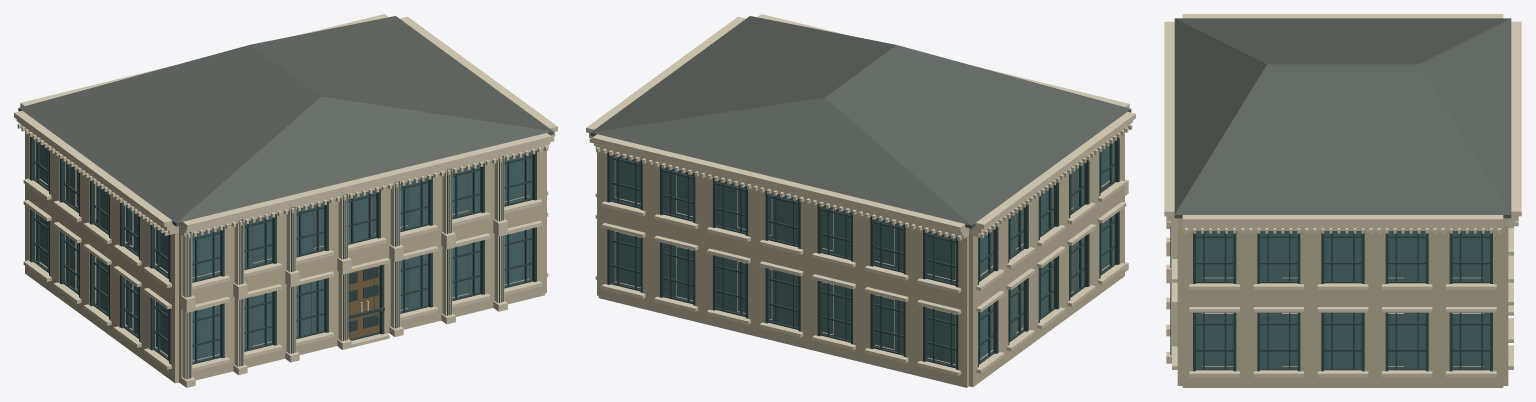
Rendered from neighborhood-bank.glb.
3 views of the same model, side by side, from view 1: azimuth 30°, elevation 25°; view 2: azimuth 150°, elevation 25°; view 3: azimuth 270°, elevation 25° (orthographic). The views are drawn at different scales.
Visible parts, largest first — view 1: Roof main.023, Foundation.042, main/north/0/714/wall.004, main/west/0/9000/wall.006, main/north/0/5000/frame.015, main/north/0/6429/wall.004, main/north/0/2143/wall.004, main/north/0/3571/wall.004, main/north/0/7857/wall.004, main/north/0/9286/wall.004, main/north/0/5000/door.004, main/north/0/6429/glass.004 (+92 smaller); view 2: Roof main.023, main/south/0/714/wall.005, main/south/0/9286/wall.005, main/south/0/2143/wall.005, main/south/0/5000/wall.015, main/south/0/7857/wall.005, main/south/0/6429/wall.005, main/south/0/3571/wall.005, Foundation.042, main/south/1/714/wall.005, main/south/1/2143/wall.005, main/south/1/9286/wall.005 (+77 smaller); view 3: Roof main.023, main/east/0/3000/wall.003, main/east/0/7000/wall.003, main/east/0/1000/wall.006, main/east/0/9000/wall.006, main/east/0/5000/wall.010, main/east/1/3000/wall.006, main/east/1/7000/wall.006, main/east/1/1000/wall.006, main/east/1/9000/wall.006, main/east/1/5000/wall.013, main/east/0/3000/glass.003 (+48 smaller).
Part boxes in pixels (left/top/right/bottom): Roof main.023: left=18, top=16, right=553, bottom=226; Foundation.042: left=39, top=152, right=529, bottom=361; main/north/0/714/wall.004: left=179, top=290, right=233, bottom=383; main/west/0/9000/wall.006: left=145, top=280, right=178, bottom=383; main/north/0/5000/frame.015: left=348, top=264, right=384, bottom=340; main/north/0/6429/wall.004: left=389, top=239, right=441, bottom=329; main/north/0/2143/wall.004: left=233, top=277, right=285, bottom=367; main/north/0/3571/wall.004: left=285, top=264, right=337, bottom=354; main/north/0/7857/wall.004: left=441, top=226, right=493, bottom=316; main/north/0/9286/wall.004: left=493, top=213, right=545, bottom=304; main/north/0/5000/door.004: left=348, top=266, right=379, bottom=338; main/north/0/6429/glass.004: left=400, top=254, right=428, bottom=311; Roof main.023: left=590, top=16, right=1131, bottom=228; main/south/0/714/wall.005: left=914, top=292, right=968, bottom=387; main/south/0/9286/wall.005: left=598, top=215, right=651, bottom=310; main/south/0/2143/wall.005: left=861, top=280, right=914, bottom=374; main/south/0/5000/wall.015: left=756, top=254, right=808, bottom=349; main/south/0/7857/wall.005: left=651, top=228, right=703, bottom=323; main/south/0/6429/wall.005: left=704, top=241, right=756, bottom=336; main/south/0/3571/wall.005: left=809, top=267, right=861, bottom=362; Foundation.042: left=614, top=154, right=1109, bottom=364; main/south/1/714/wall.005: left=914, top=227, right=968, bottom=305; main/south/1/2143/wall.005: left=861, top=214, right=914, bottom=292; main/south/1/9286/wall.005: left=598, top=150, right=651, bottom=228; Roof main.023: left=1174, top=18, right=1511, bottom=218; main/east/0/3000/wall.003: left=1375, top=300, right=1439, bottom=387; main/east/0/7000/wall.003: left=1246, top=300, right=1310, bottom=387; main/east/0/1000/wall.006: left=1439, top=300, right=1503, bottom=387; main/east/0/9000/wall.006: left=1182, top=300, right=1246, bottom=387; main/east/0/5000/wall.010: left=1311, top=300, right=1374, bottom=387; main/east/1/3000/wall.006: left=1375, top=231, right=1439, bottom=300; main/east/1/7000/wall.006: left=1246, top=231, right=1310, bottom=300; main/east/1/1000/wall.006: left=1439, top=231, right=1503, bottom=300; main/east/1/9000/wall.006: left=1182, top=231, right=1246, bottom=300; main/east/1/5000/wall.013: left=1311, top=231, right=1374, bottom=300; main/east/0/3000/glass.003: left=1388, top=312, right=1425, bottom=367.
Bounding box in the file's own units: 15.13 × 7.9 × 11.13.
